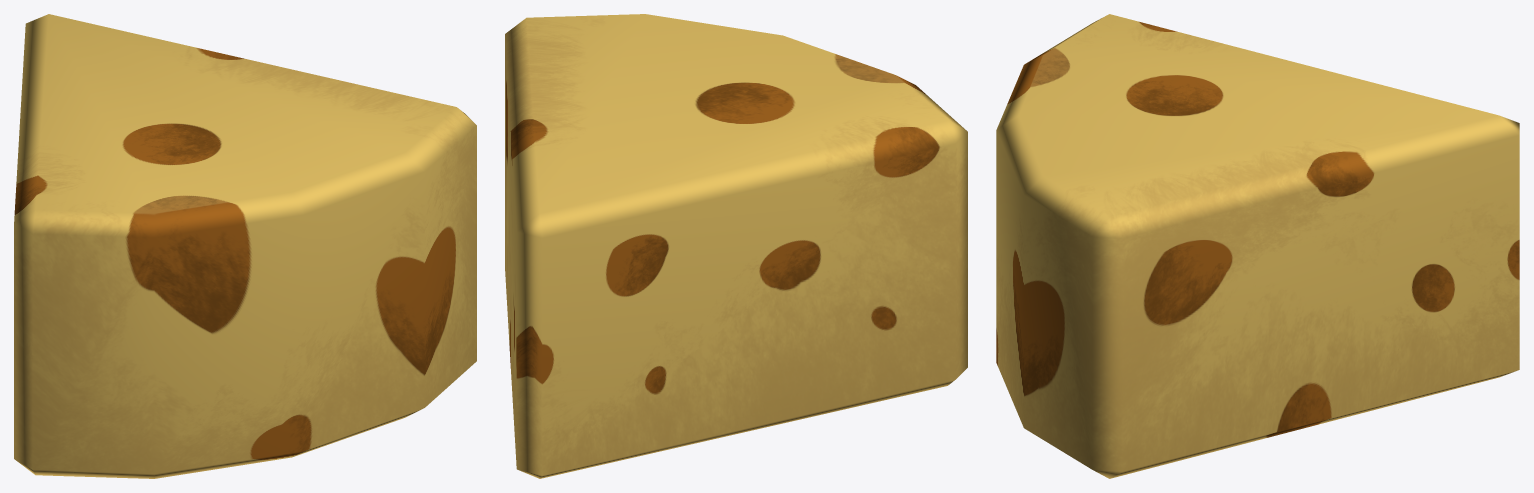
Rendered from cheese.fbx.
The picture shows the model from 3 angles, left to right: view 1: azimuth 30°, elevation 25°; view 2: azimuth 150°, elevation 25°; view 3: azimuth 270°, elevation 25°; orthographic projection.
Visible parts, largest first — view 1: SwissCheese_01; view 2: SwissCheese_01; view 3: SwissCheese_01.
Part boxes in pixels (box(x1,y1,x2,y2)): SwissCheese_01: box(14, 14, 476, 478); SwissCheese_01: box(505, 14, 967, 478); SwissCheese_01: box(996, 14, 1519, 478).
Bounding box in the file's own units: 0.5708 × 0.3214 × 0.5814.
1 material, 1 textured.
